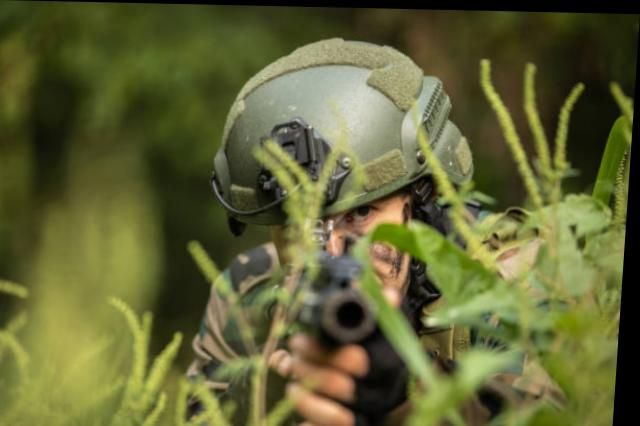other: (220, 42, 476, 424)
